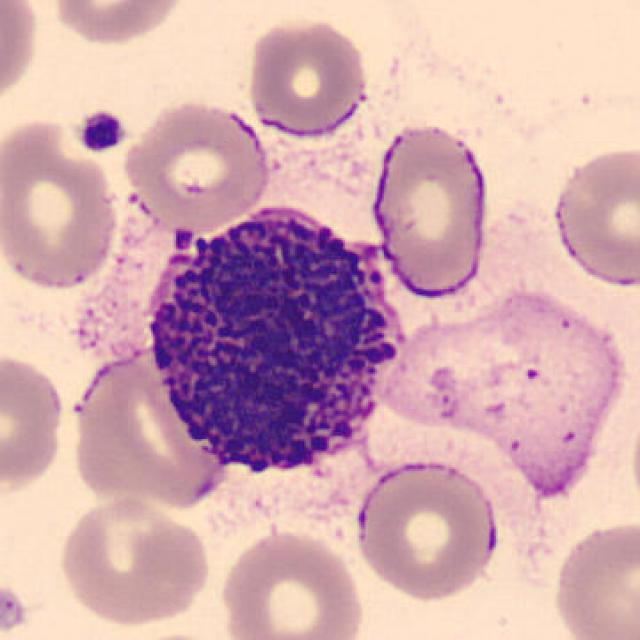Basophil: (130, 192, 416, 501)
Platelets: (73, 108, 130, 154), (0, 581, 28, 638)
RBC: (400, 280, 633, 506), (66, 347, 233, 513), (350, 455, 503, 603), (368, 118, 491, 300), (0, 114, 123, 294), (55, 494, 215, 630), (119, 95, 274, 233), (215, 525, 368, 640), (243, 14, 369, 138), (548, 141, 638, 291), (549, 515, 640, 640), (0, 348, 68, 496), (46, 0, 190, 48), (0, 0, 41, 116), (627, 400, 640, 523), (121, 629, 236, 640)
